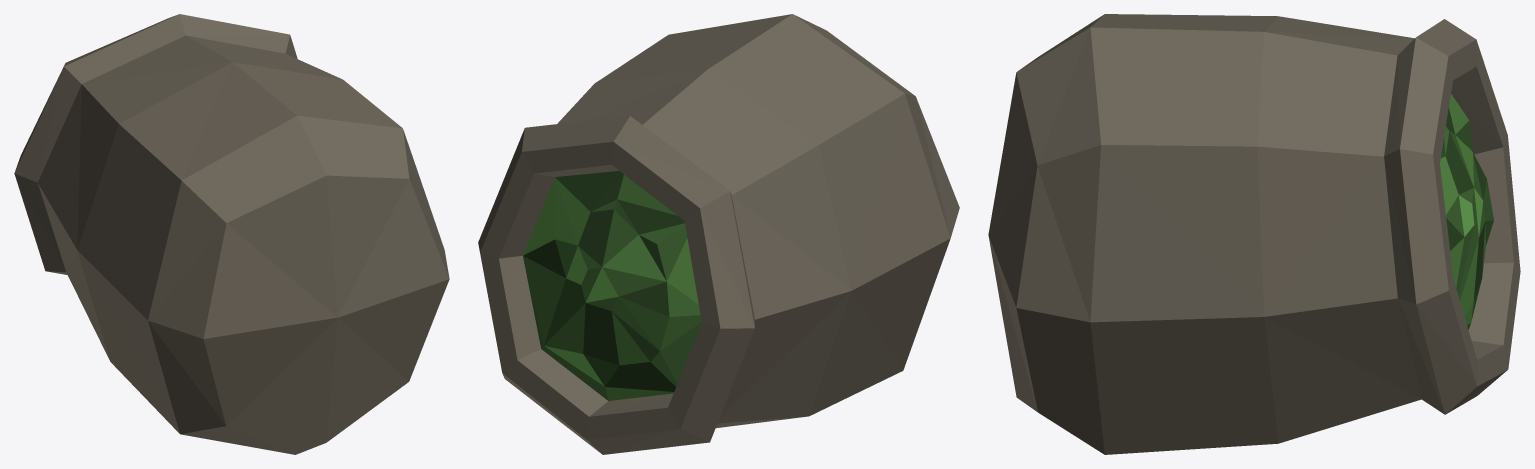
The model's file is Sack 03 Vege.FBX.
3 renders of one model, left to right at view 1: azimuth 30°, elevation 25°; view 2: azimuth 150°, elevation 25°; view 3: azimuth 270°, elevation 25°, orthographic. The views are drawn at different scales.
Visible parts, largest first — view 1: Sack 03 Vege; view 2: Sack 03 Vege; view 3: Sack 03 Vege.
Part boxes in pixels (bbox=[...]): Sack 03 Vege: bbox=[14, 14, 449, 454]; Sack 03 Vege: bbox=[478, 14, 959, 454]; Sack 03 Vege: bbox=[988, 14, 1520, 454].
Bounding box in the file's own units: 58.99 × 73.44 × 63.08.
